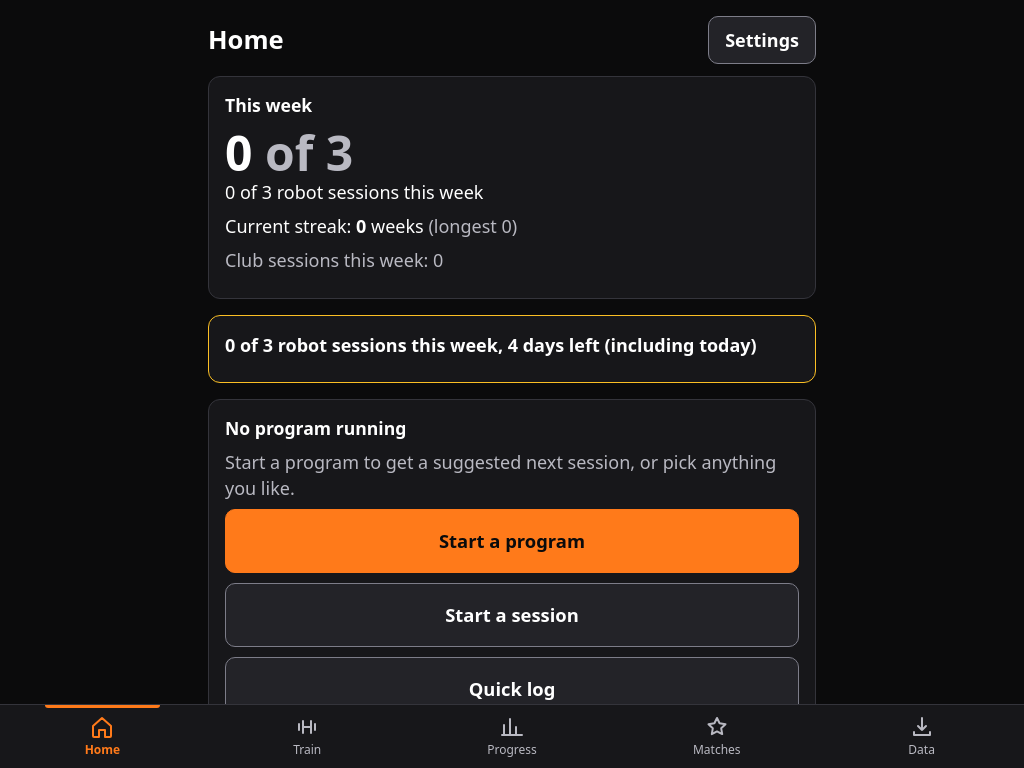
Test: Home backup banner › Home and Data both reach Settings
The width and height of the screenshot is (1024, 768).
Expected: the text "0 of 3 robot sessions this week" is shown, x1=225 y1=180 x2=484 y2=204
Click the button "Settings".
click(762, 40)  # box x1=708 y1=16 x2=816 y2=64
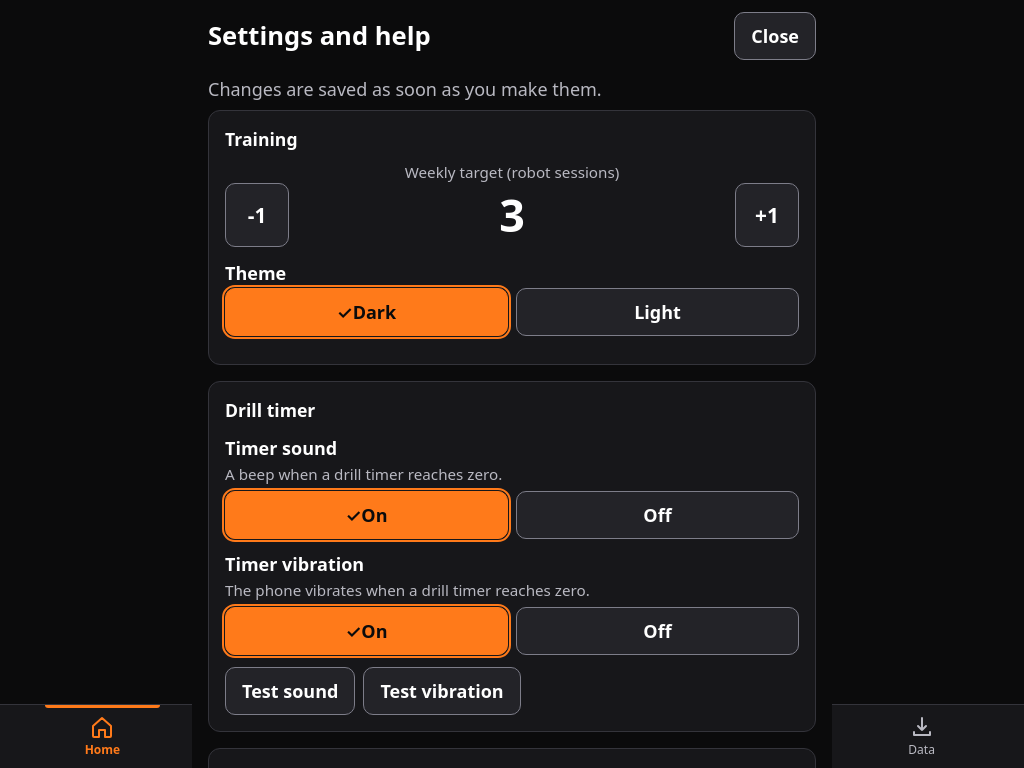
Now the dialog "Settings and help" is shown
Click the button "Close".
click(775, 36)  # box x1=734 y1=12 x2=816 y2=60
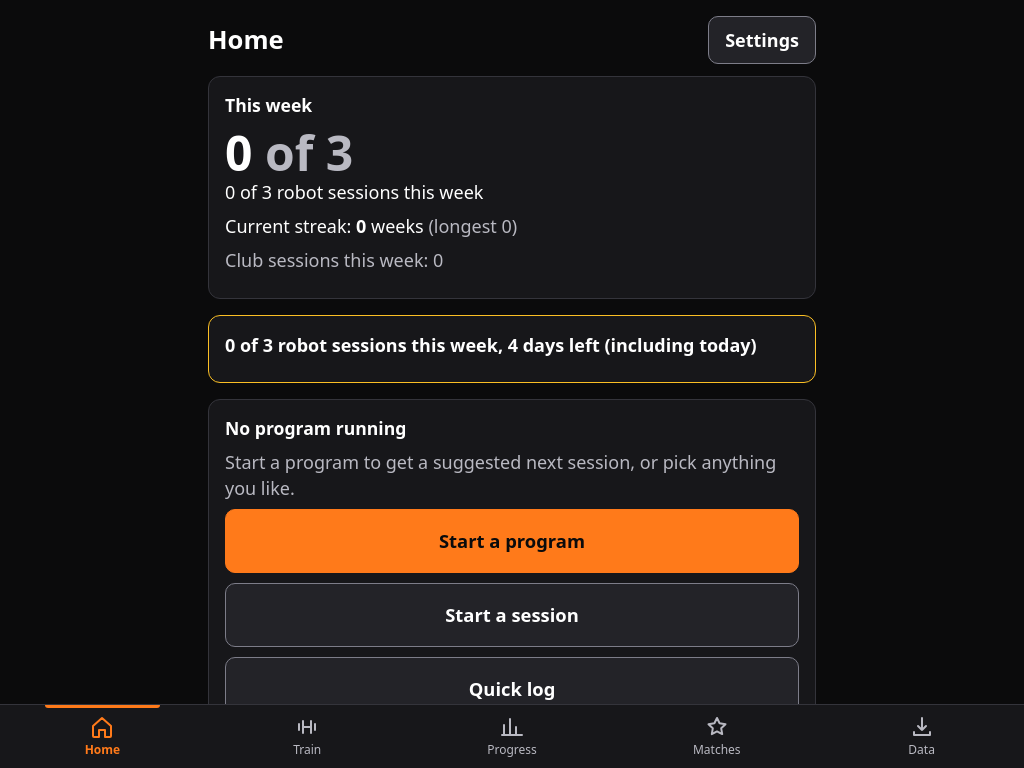
Click the button "Data".
click(922, 736)  # box x1=819 y1=705 x2=1023 y2=767
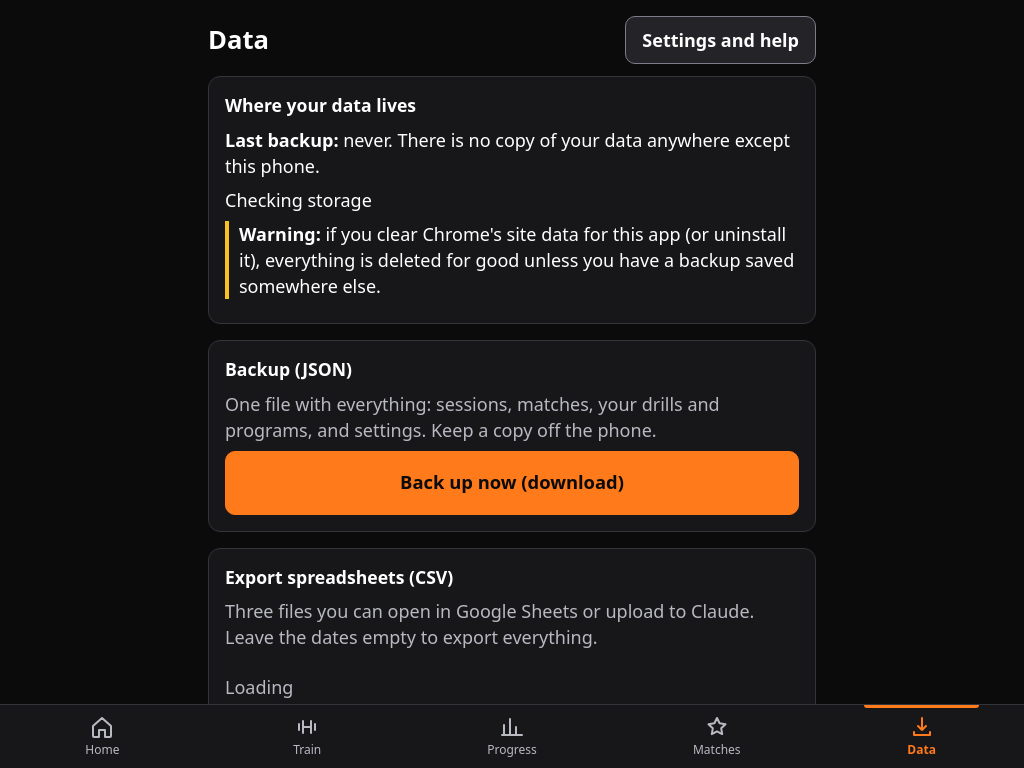
Click the button "Settings and help".
click(721, 40)  # box x1=625 y1=16 x2=816 y2=64
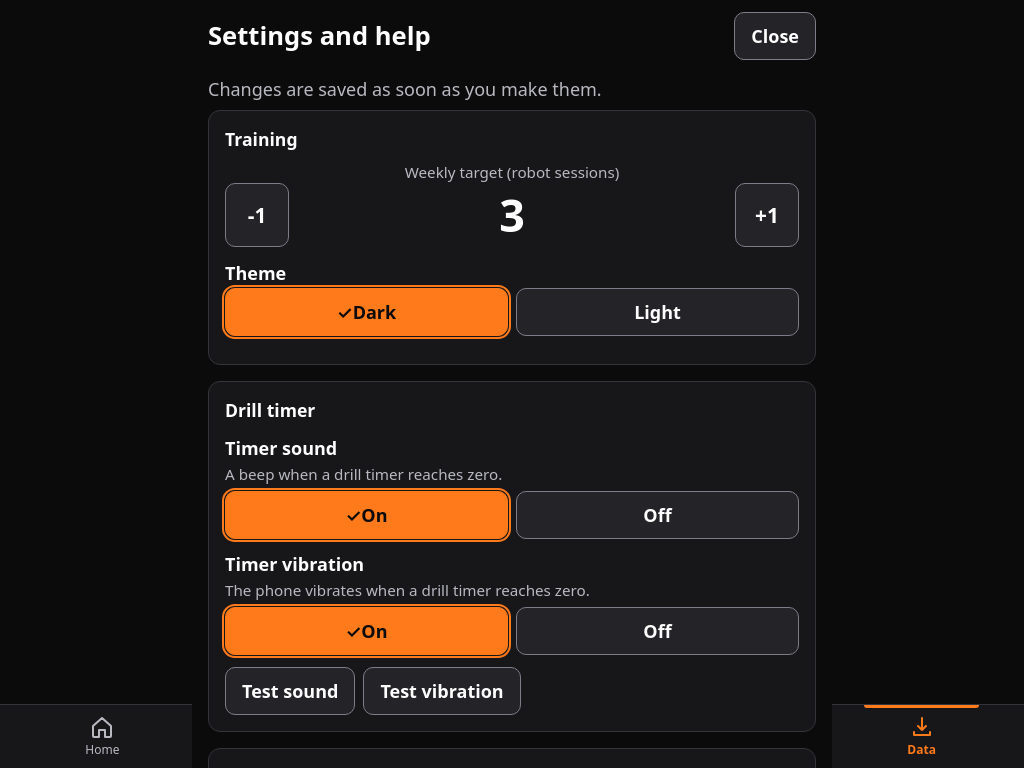
Now the dialog "Settings and help" is shown
